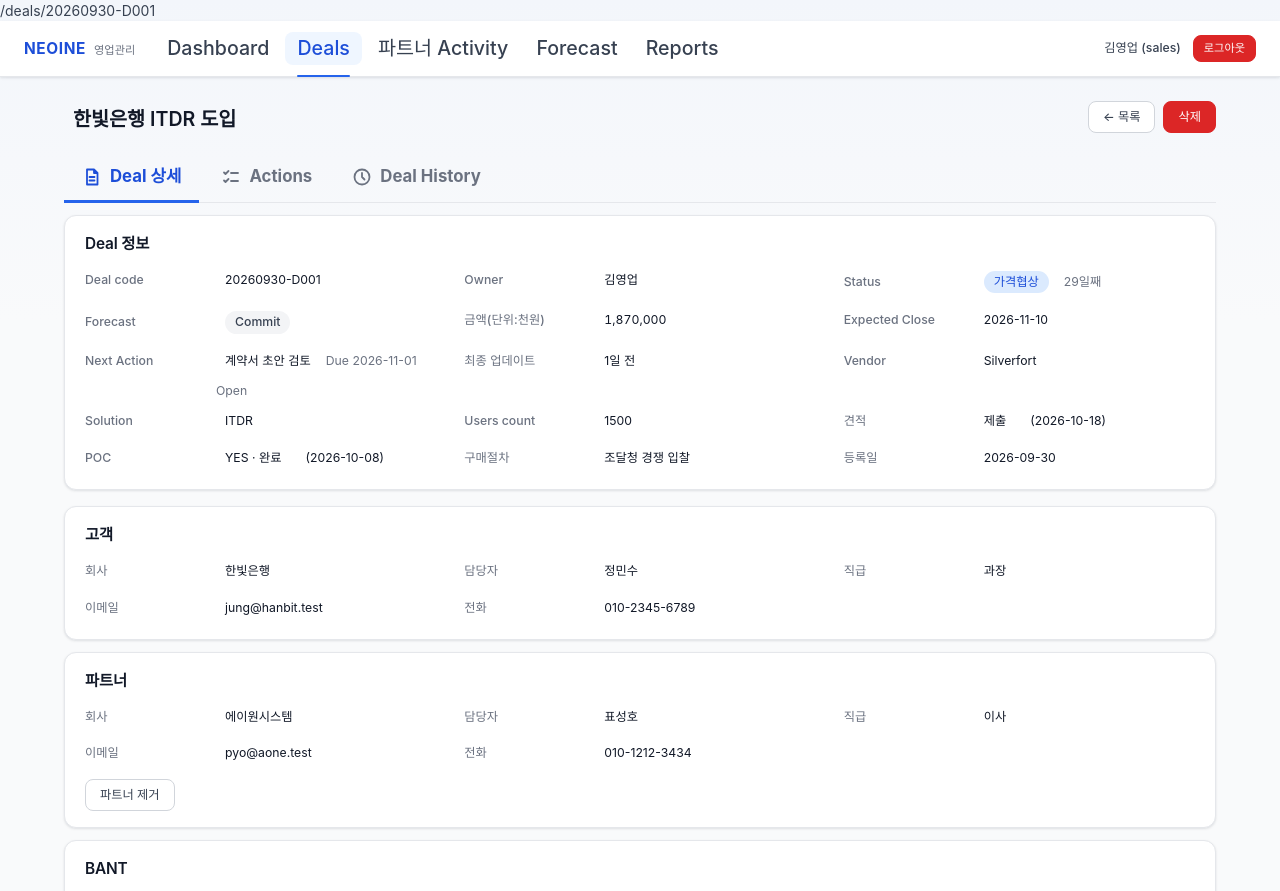
Deal 삭제 팝업 (T-DELETE-01~06) › states what is deleted together, with the counts, and asks for the deal code
Expected: the heading "한빛은행 ITDR 도입" is shown, [64,101,245,138]
What coordinates should you click on to do the following:
click the button with aria-label "Deal 삭제"
I would click on:
 (1190, 117)
Its box is [1164,101,1216,133].
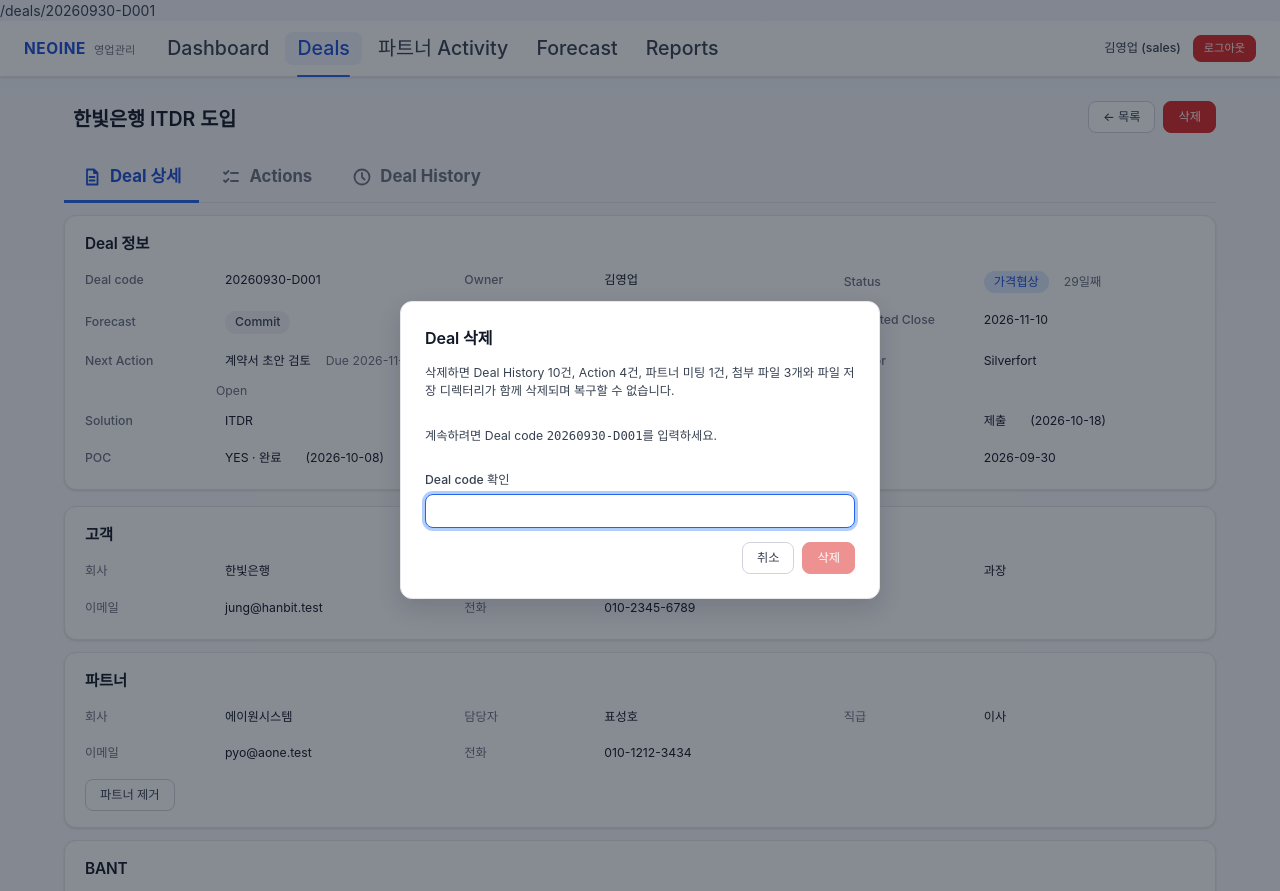
Expected: the dialog "Deal 삭제" shows "복구할 수 없습니다", [425,365,855,398]
